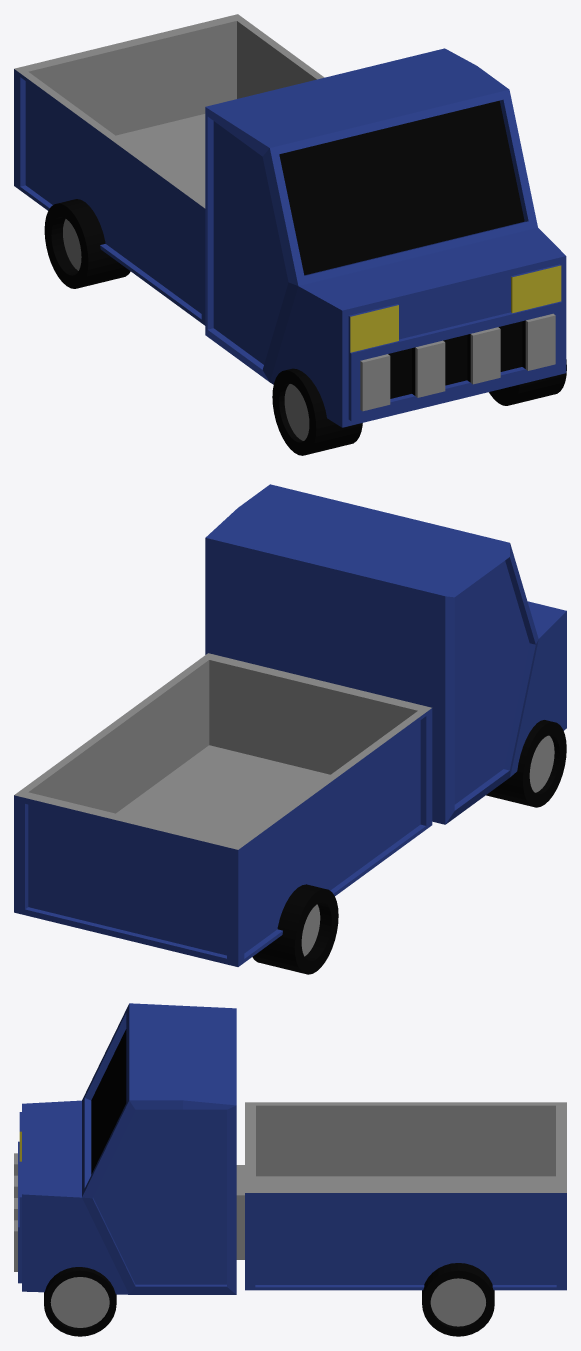
File: Car.fbx
3 views of the same model, one above another, from view 1: azimuth 30°, elevation 25°; view 2: azimuth 150°, elevation 25°; view 3: azimuth 270°, elevation 25° (orthographic). The views are drawn at different scales.
Visible parts, largest first — view 1: Cube, Cube.001, Cylinder.003, Cylinder, Cylinder.001; view 2: Cube.001, Cube, Cylinder.003, Cylinder; view 3: Cube.001, Cube, Cylinder.002, Cylinder.001.
Boxes of the visible parts, bbox=[...] form: Cube: bbox=[205, 48, 566, 427]; Cube.001: bbox=[14, 14, 324, 325]; Cylinder.003: bbox=[44, 199, 130, 288]; Cylinder: bbox=[272, 368, 362, 455]; Cylinder.001: bbox=[489, 359, 566, 405]; Cube.001: bbox=[14, 653, 432, 966]; Cube: bbox=[205, 484, 566, 824]; Cylinder.003: bbox=[252, 884, 338, 974]; Cylinder: bbox=[486, 720, 566, 807]; Cube.001: bbox=[236, 1102, 566, 1290]; Cube: bbox=[14, 1003, 236, 1294]; Cylinder.002: bbox=[422, 1263, 494, 1336]; Cylinder.001: bbox=[44, 1267, 116, 1336].
Size of the model in its own units: 896 by 962 by 2061.
